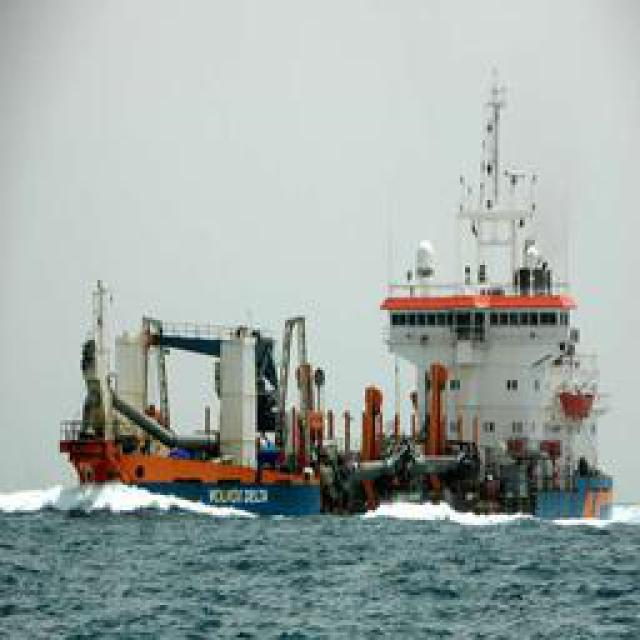Ship: (66, 147, 627, 518)
